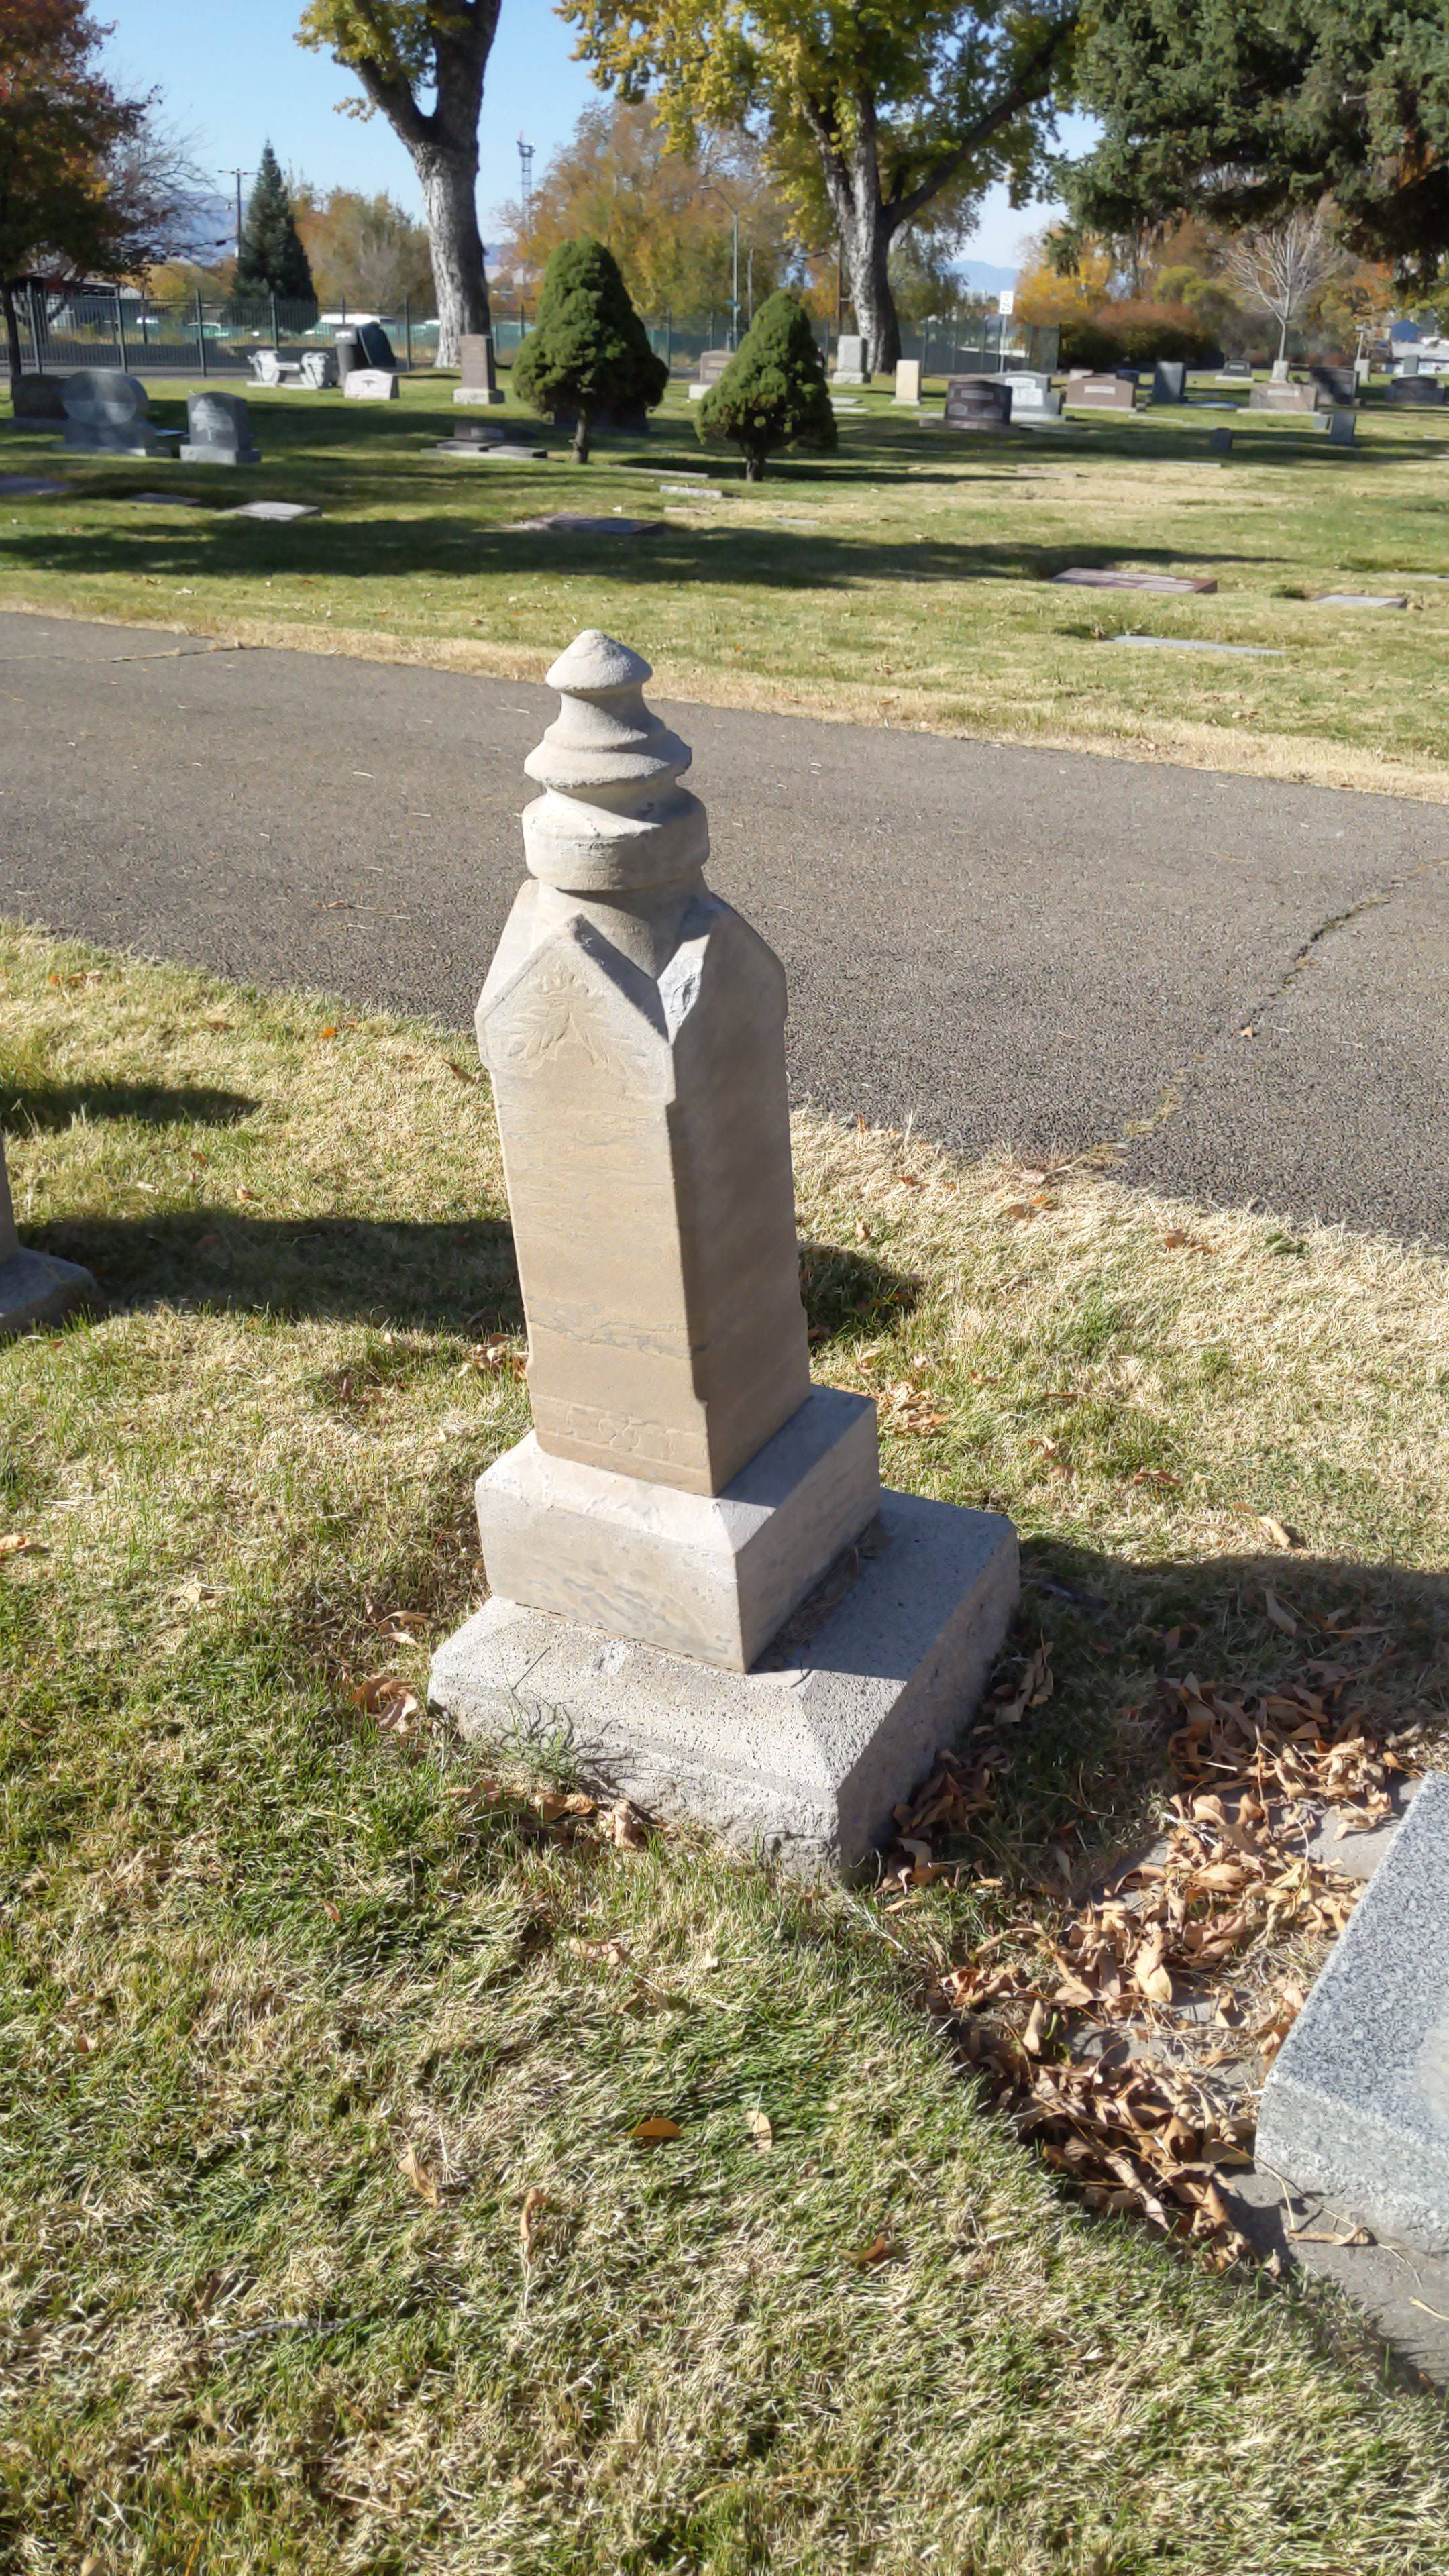obelisk: (465, 619, 885, 1675)
